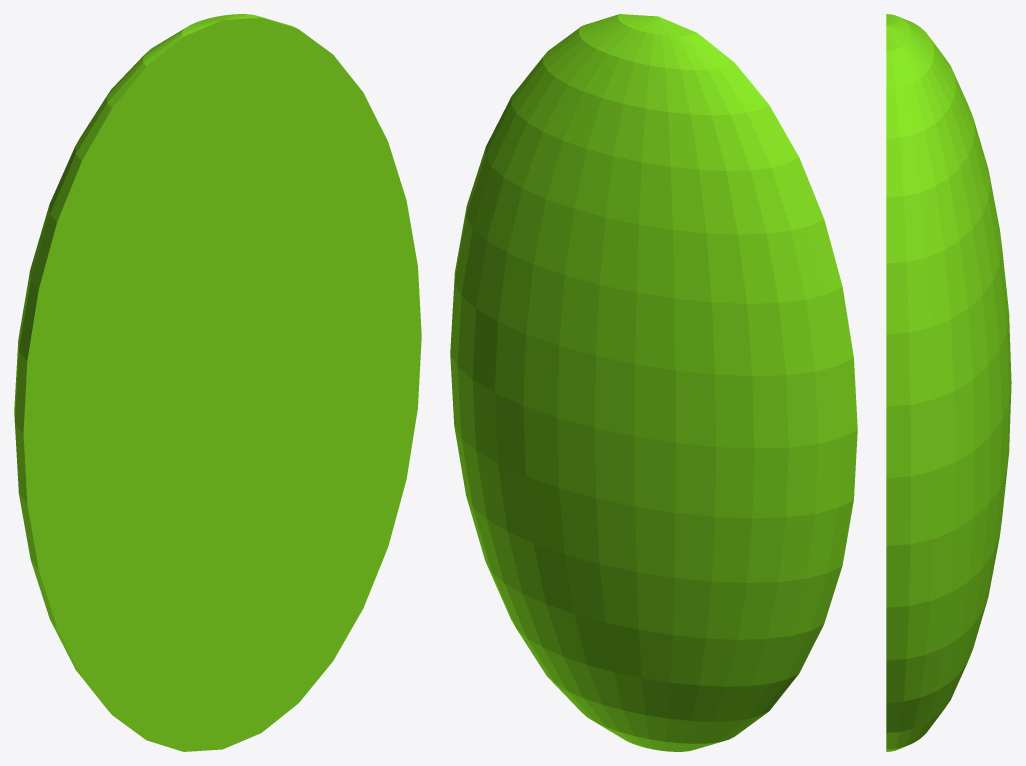
The model's file is hand.dae.
3 renders of one model, left to right at view 1: azimuth 30°, elevation 25°; view 2: azimuth 150°, elevation 25°; view 3: azimuth 270°, elevation 25°, orthographic. The views are drawn at different scales.
Visible parts, largest first — view 1: Sphere.001; view 2: Sphere.001; view 3: Sphere.001.
Boxes of the visible parts, bbox=[...] form: Sphere.001: bbox=[14, 14, 421, 751]; Sphere.001: bbox=[450, 14, 857, 751]; Sphere.001: bbox=[886, 14, 1011, 751].
Bounding box in the file's own units: 0.5714 × 0.1587 × 1.
